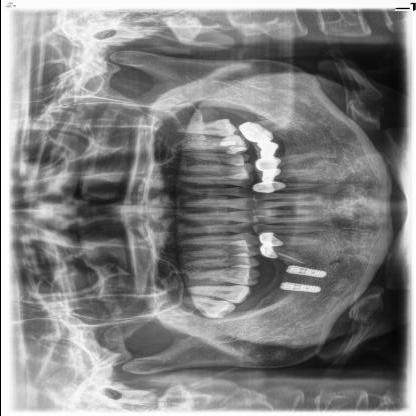ITI: (279, 264, 330, 281), (276, 280, 322, 294)
